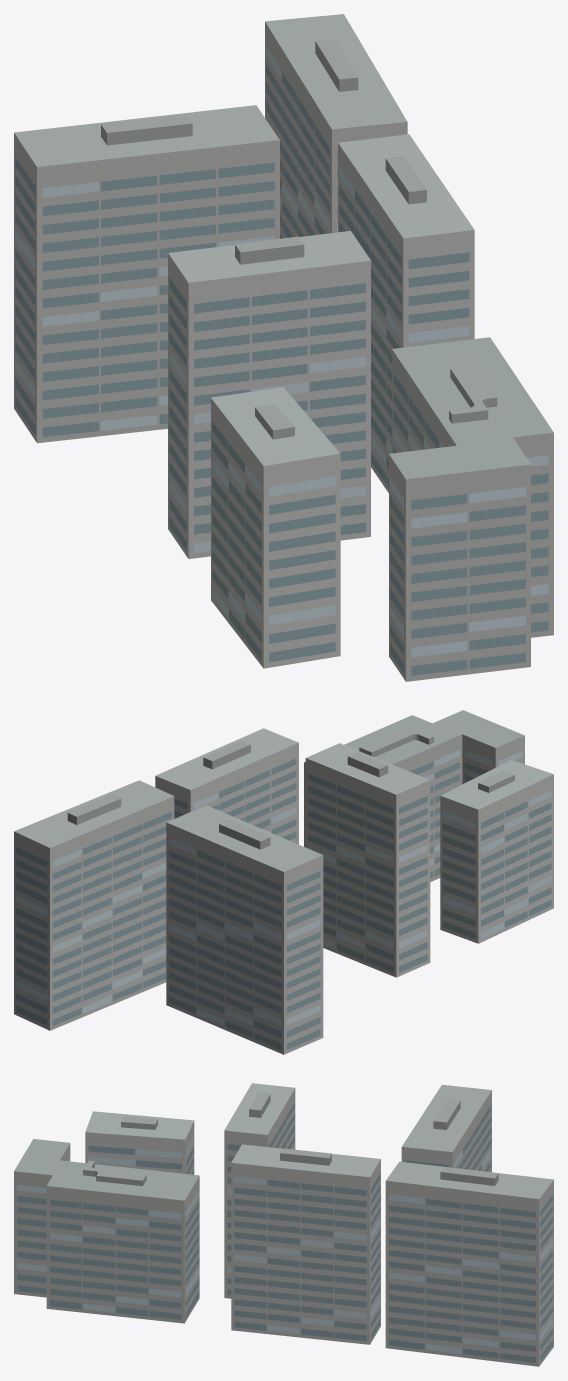
File: apt-a15186002.glb
3 views of the same model, one above another, from view 1: azimuth 30°, elevation 25°; view 2: azimuth 150°, elevation 25°; view 3: azimuth 270°, elevation 25° (orthographic). The views are drawn at different scales.
Parts seen in each view (by area): view 1: apt-a15186002; view 2: apt-a15186002; view 3: apt-a15186002.
Part boxes in pixels (left/top/right/bottom): apt-a15186002: left=14, top=14, right=553, bottom=681; apt-a15186002: left=14, top=710, right=553, bottom=1054; apt-a15186002: left=14, top=1083, right=553, bottom=1366.
Size of the model in its own units: 77.66 by 47.81 by 134.
